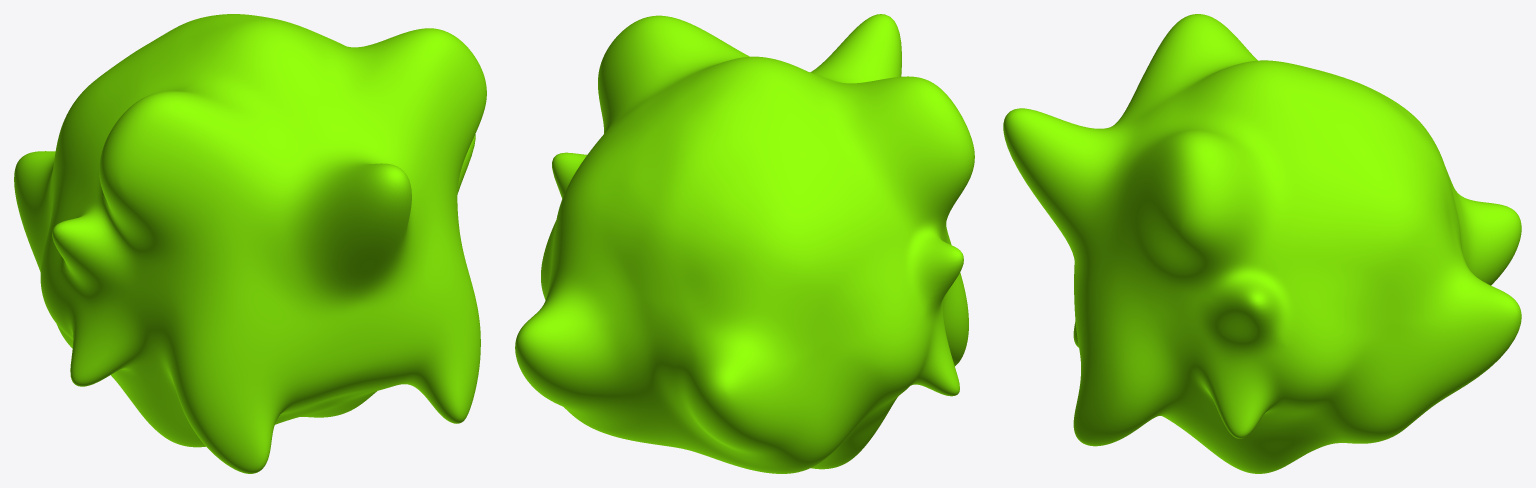
3 views of the same model, side by side, from view 1: azimuth 30°, elevation 25°; view 2: azimuth 150°, elevation 25°; view 3: azimuth 270°, elevation 25° (orthographic). The views are drawn at different scales.
Visible parts, largest first — view 1: #2; view 2: #2; view 3: #2.
Part boxes in pixels (x1,y1,x2,y2): #2: [14, 14, 486, 473]; #2: [515, 14, 974, 473]; #2: [1003, 14, 1521, 473].
Size of the model in its own units: 0.2276 by 0.2056 by 0.2599.
